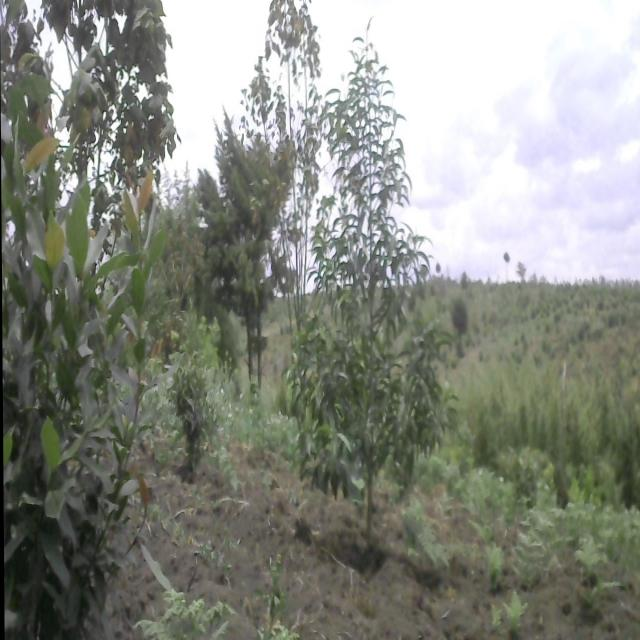Hass Avocado: (277, 25, 495, 563)
Lemon Myrtle: (0, 42, 159, 640)
cedrus: (187, 100, 300, 330)
